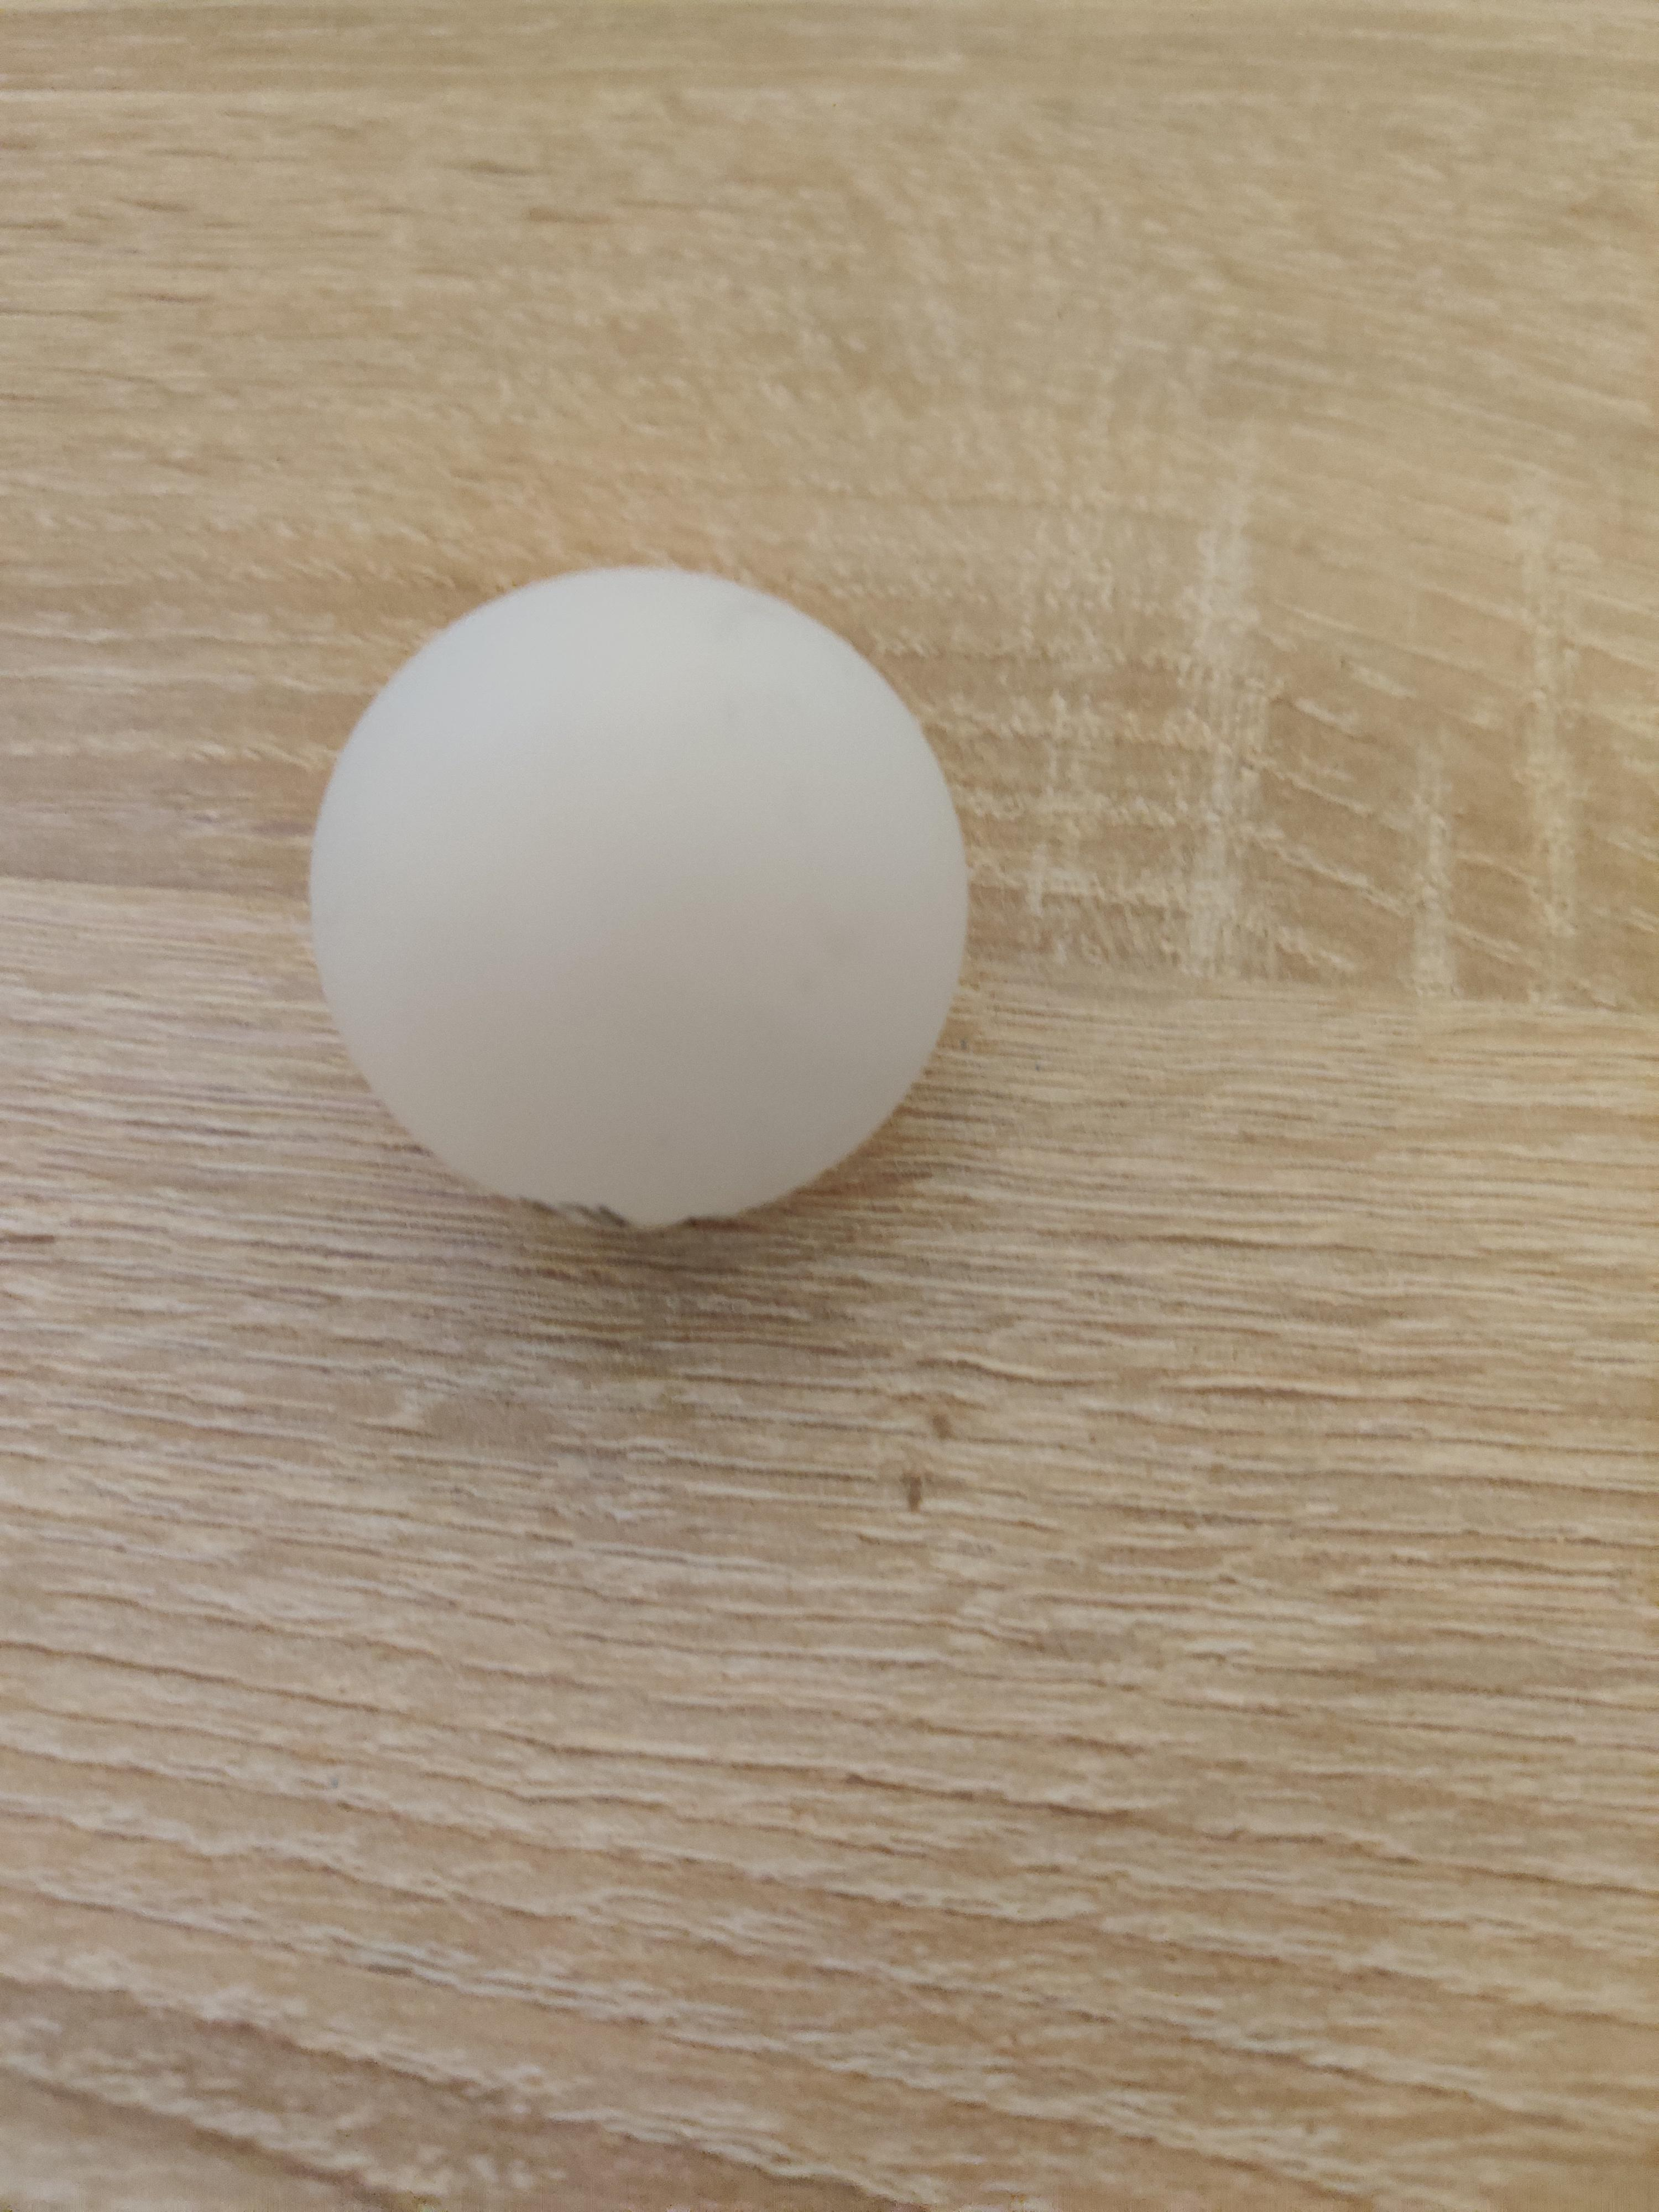white: (303, 556, 979, 1235)
